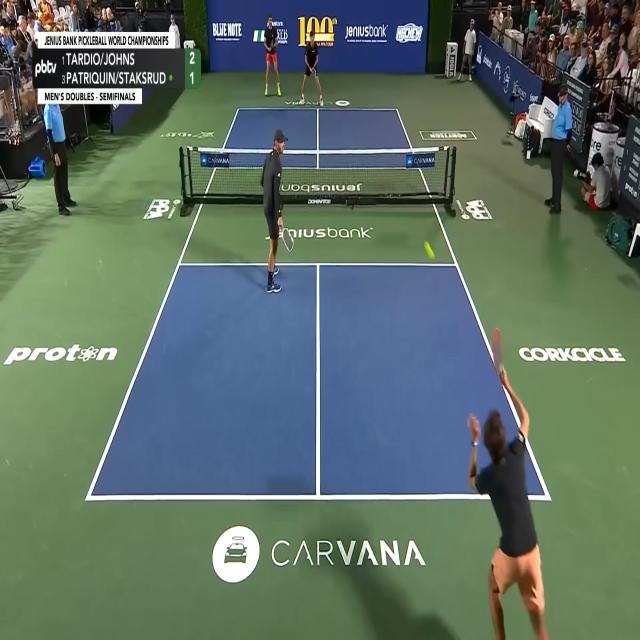ball: (424, 241, 435, 260)
